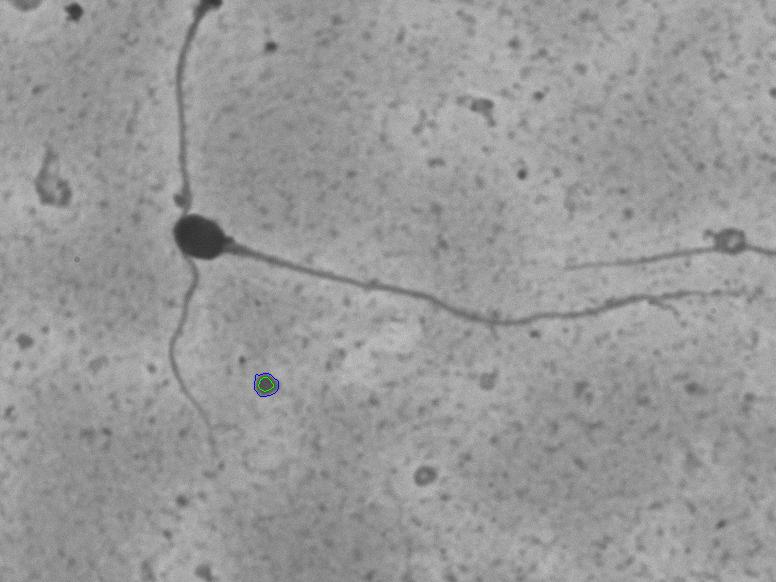Abnormal: (168, 164, 715, 365)
